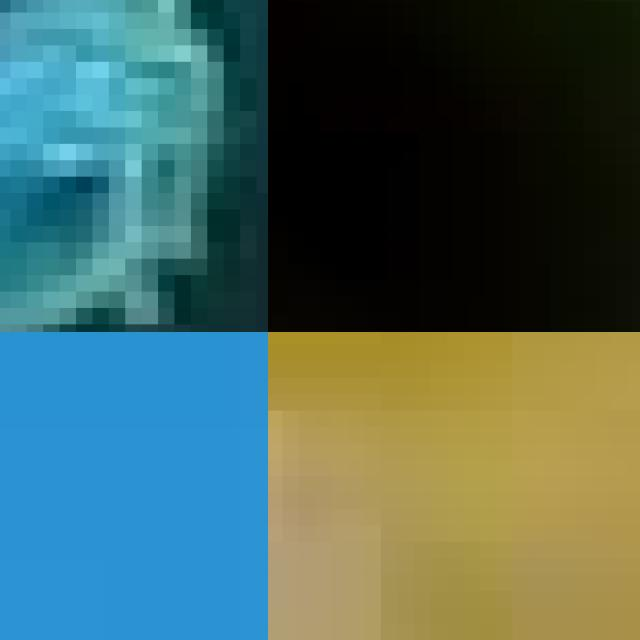fish: (268, 332, 640, 640), (0, 0, 268, 332), (188, 332, 268, 640)
